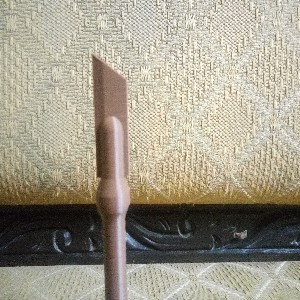cutter: (90, 52, 132, 300)
